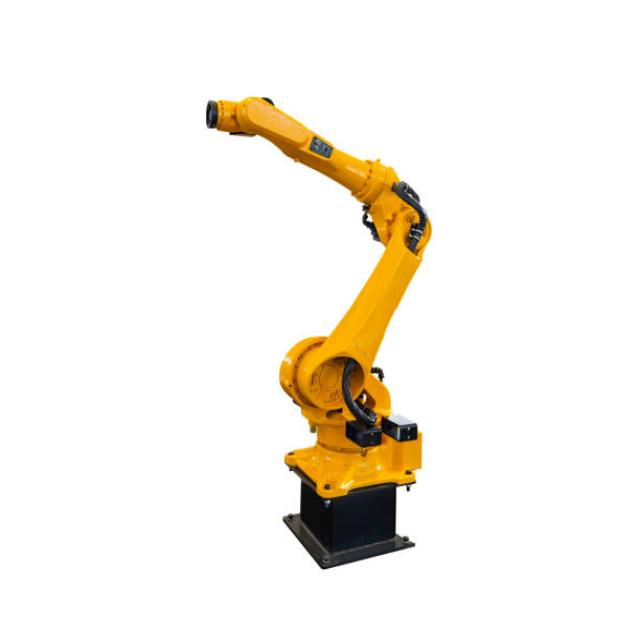Robotic-arm: (199, 83, 461, 577)
